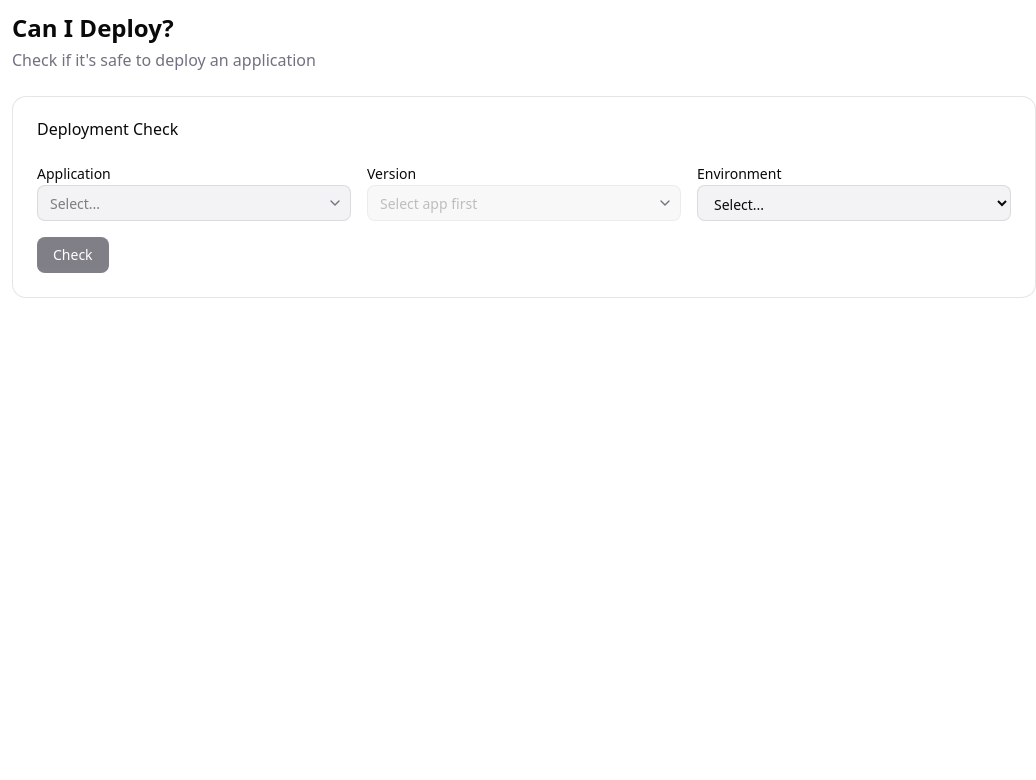
Test: CanIDeployPage › should show UNSAFE result with failed consumers
Click the dropdown with placeholder "Select..." at (194, 203), box [37,185,351,221]
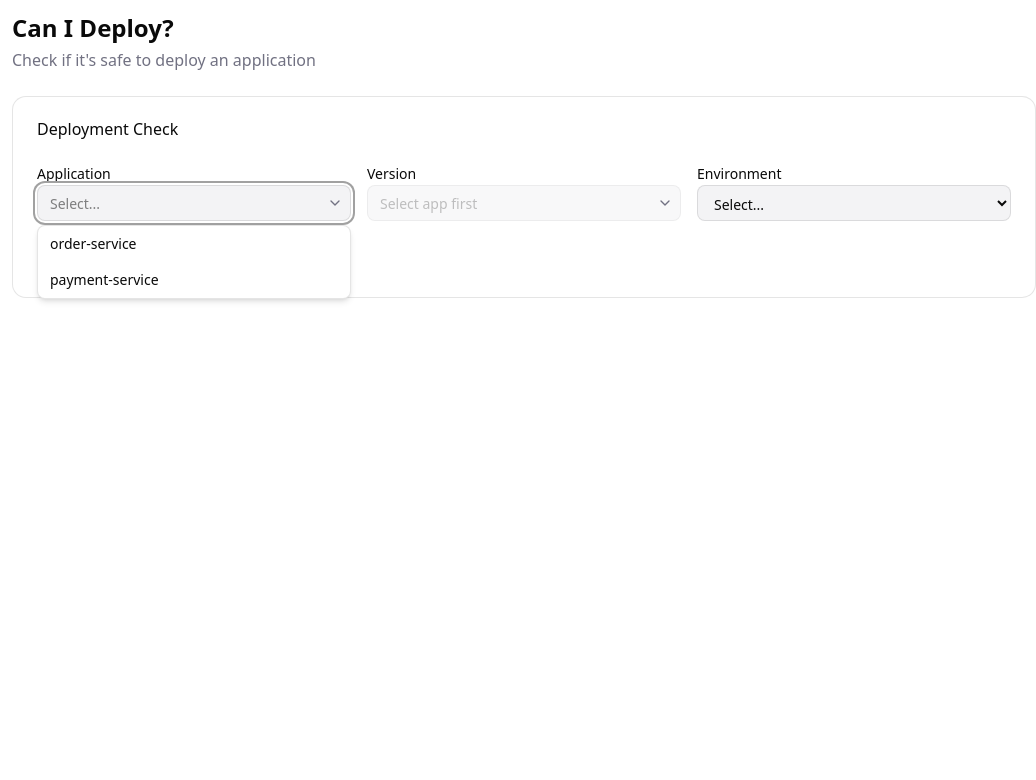
Check: the option "order-service" is shown
Click the option "order-service" at (93, 244), box [50,234,136,253]
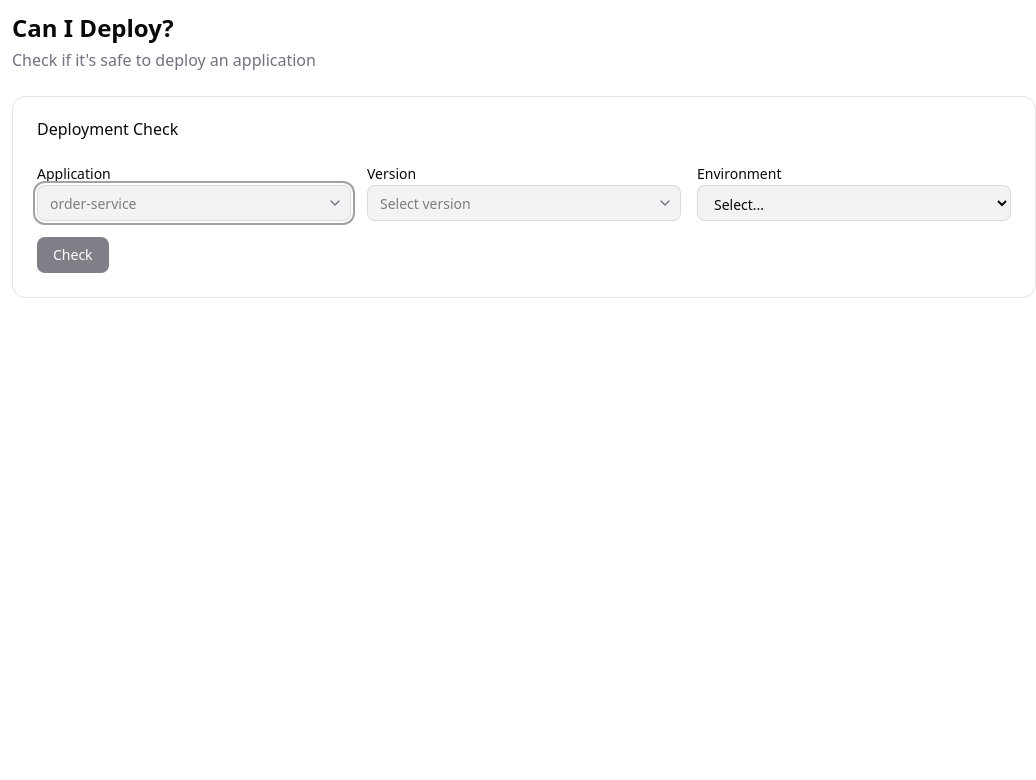
Check: the dropdown with placeholder "Select version" is enabled
Click the dropdown with placeholder "Select version" at (524, 203), box [367,185,681,221]
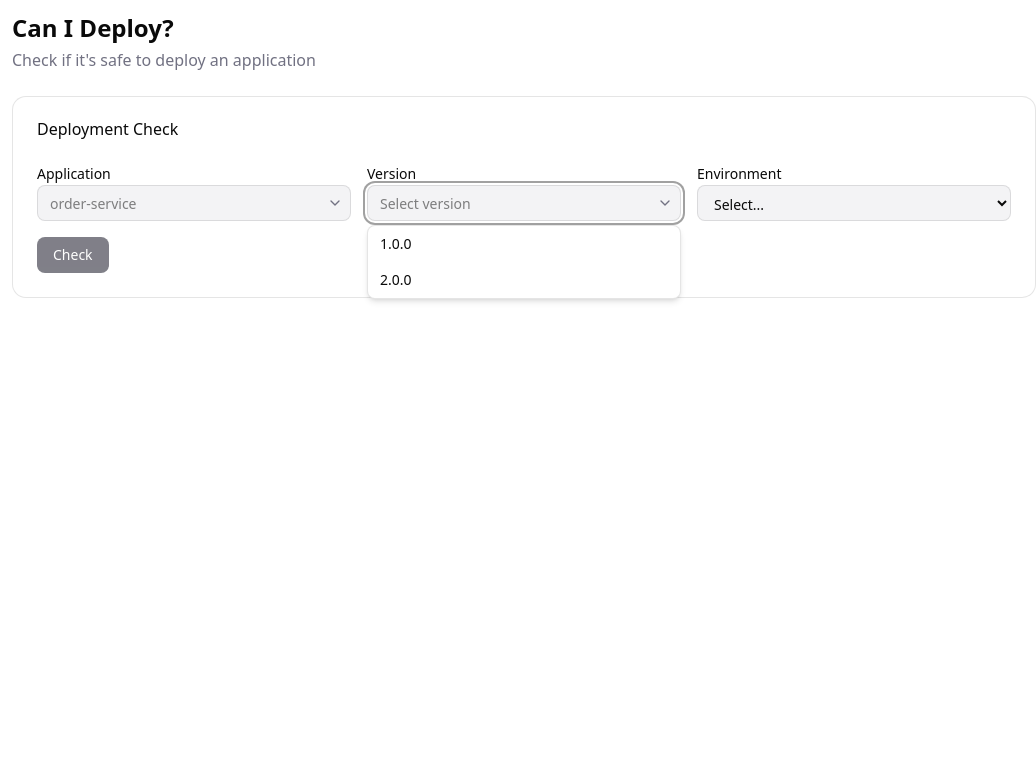
Check: the option "2.0.0" is shown
Click the option "2.0.0" at (396, 280), box [380,270,412,289]
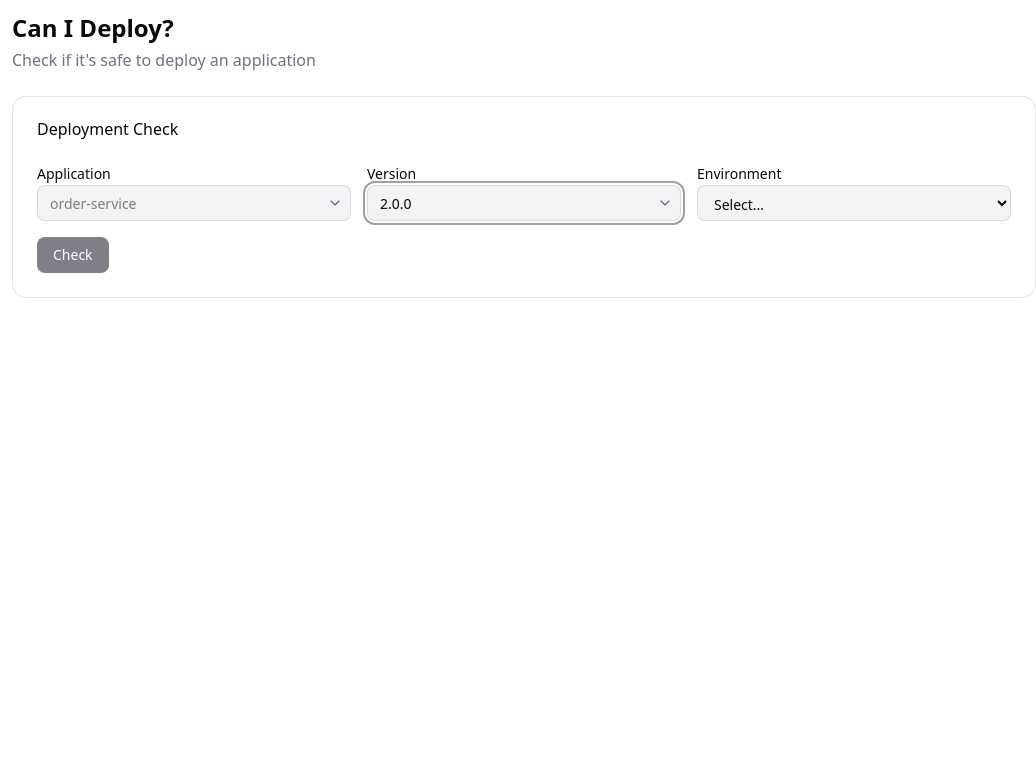
Select "production" in the dropdown labelled "Environment" at (854, 203), box [697,185,1011,221]
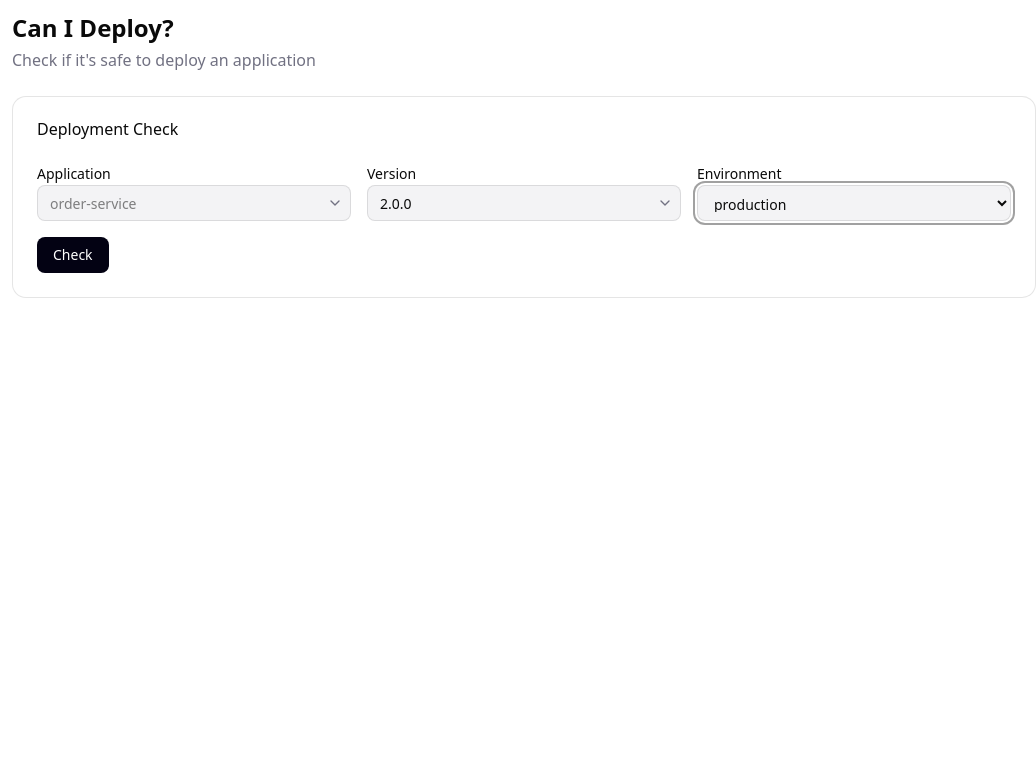
Click the button "Check" at (73, 255), box [37,237,109,273]
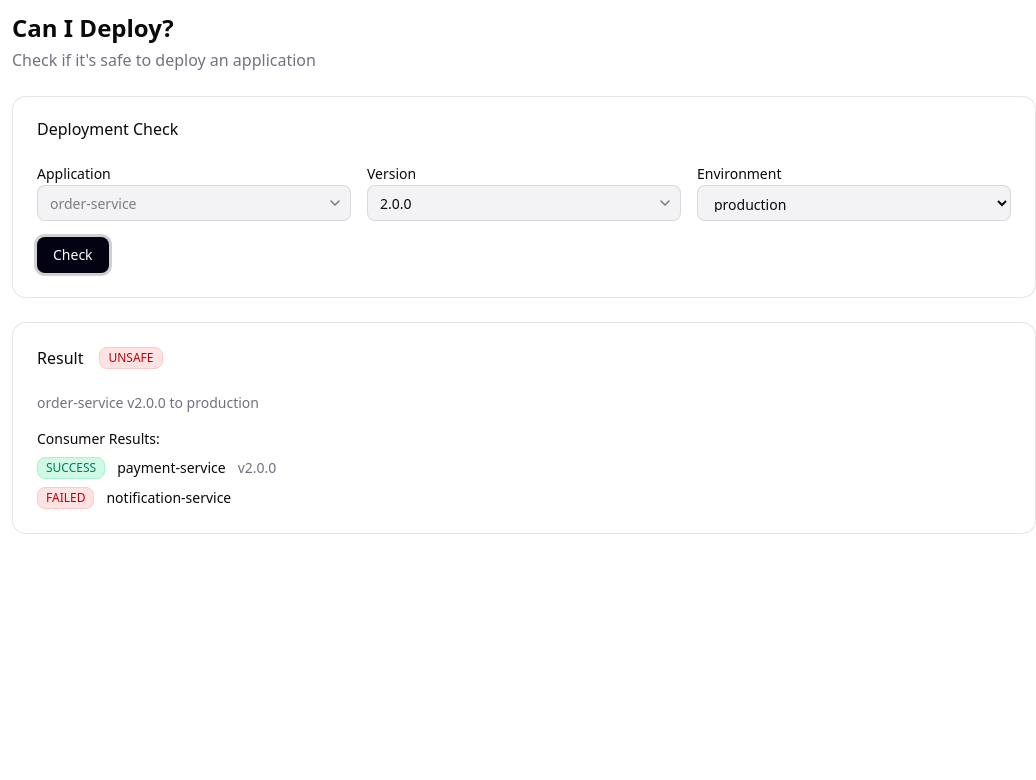
Check: the text "UNSAFE" is shown, box [99,347,162,369]
Check: the text "notification-service" is shown, box [106,488,231,508]
